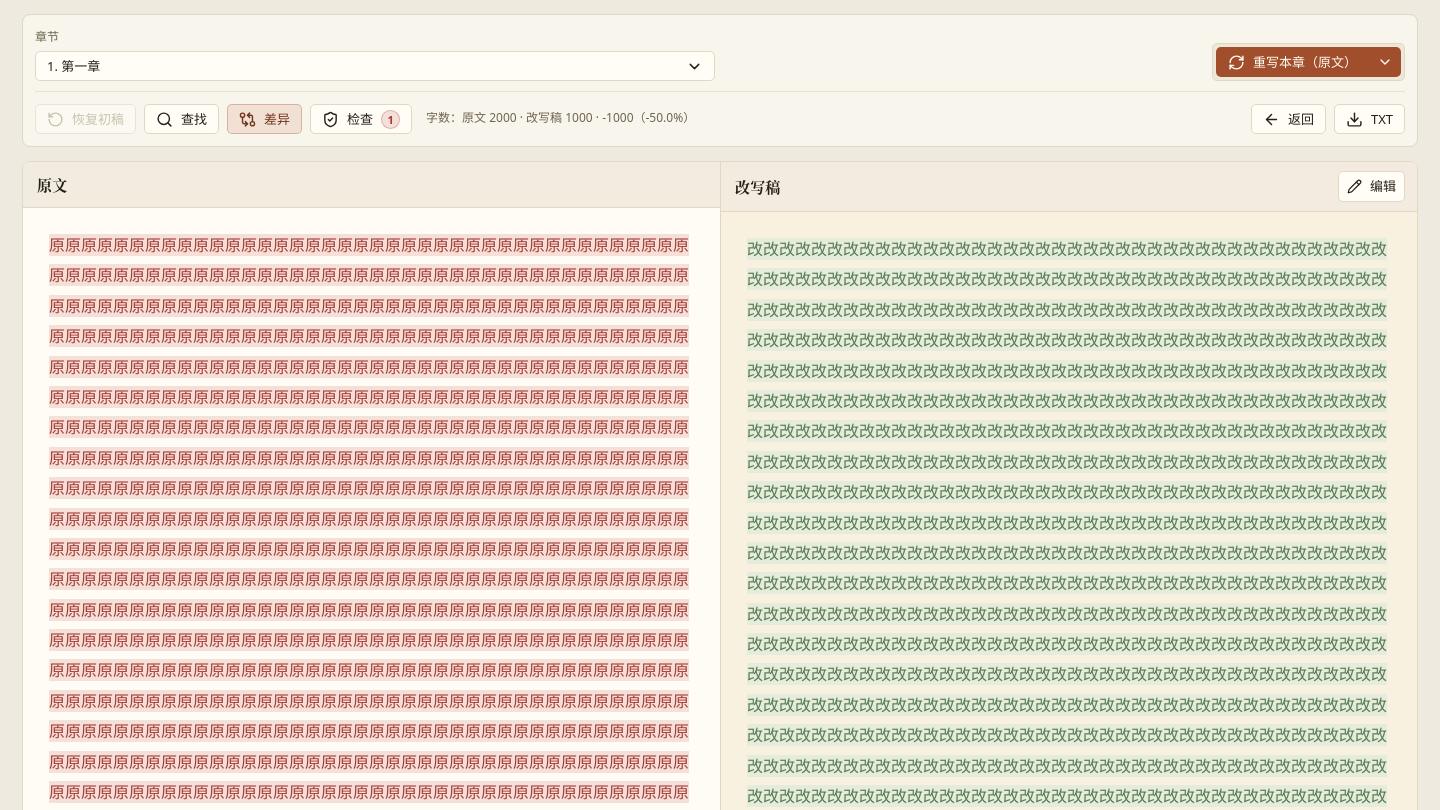
Test: CompareView › shows length delta warnings in the quality panel
This screenshot has width=1440, height=810.
What coordinates should you click on to do the following:
click the button "检查 1"
I would click on:
 (361, 119)
Its box is [310,104,412,134].
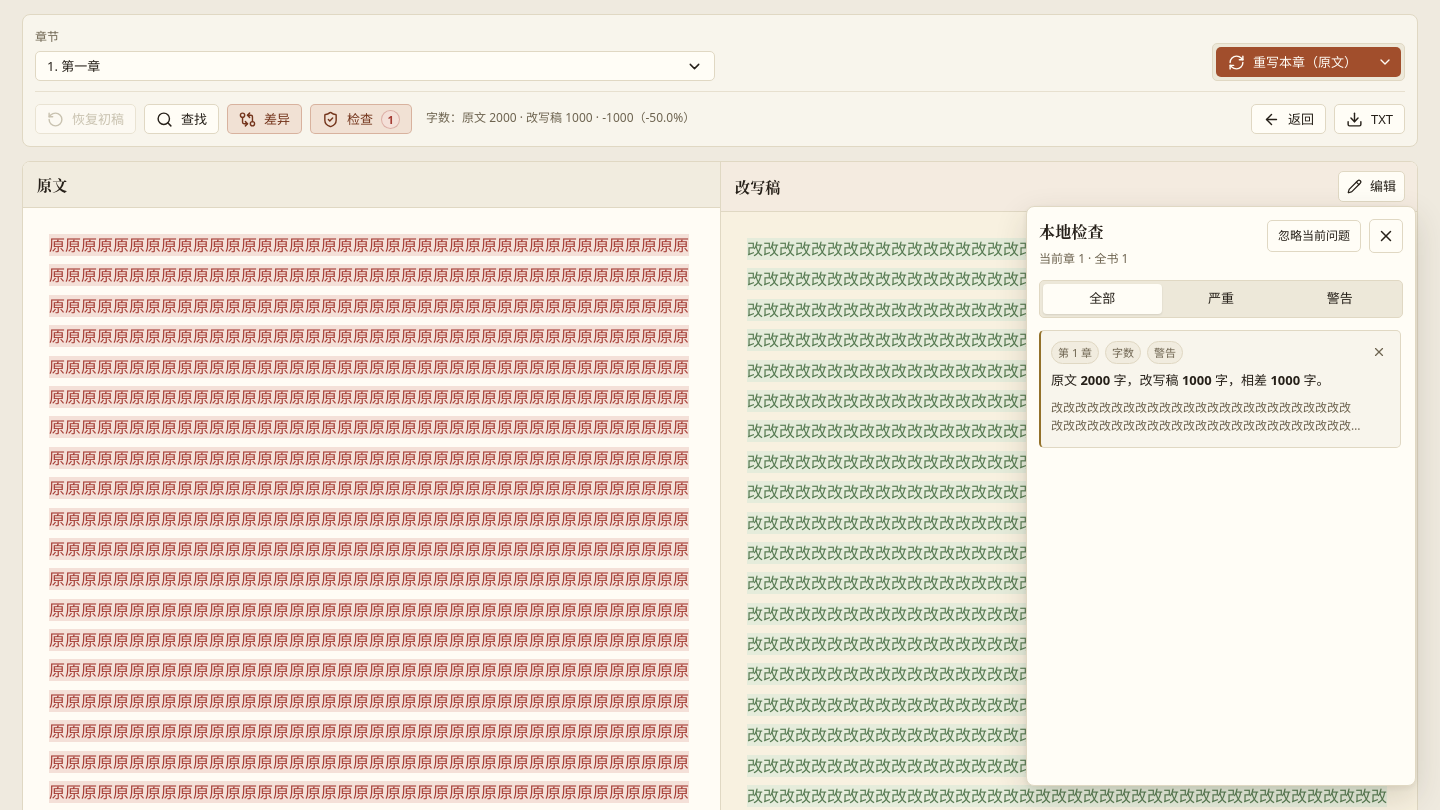
Result: the element named "本地质量检查" shows "当前章 1 · 全书 1" at [1026,206,1416,786]
Result: the element named "本地质量检查" shows "字数" at [1112,345,1134,360]
Result: the element named "本地质量检查" shows "原文 2000 字，改写稿 1000 字，相差 1000 字。" at [1051,371,1330,389]
